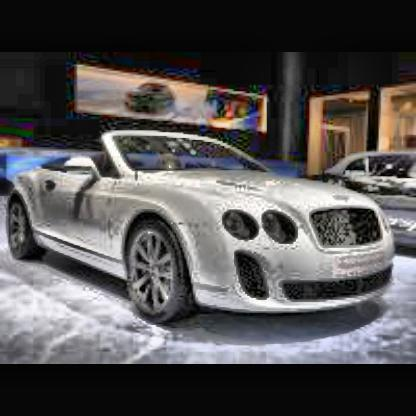Bentley Continental Supersports Conv- Convertible 2012: (9, 132, 397, 329)
